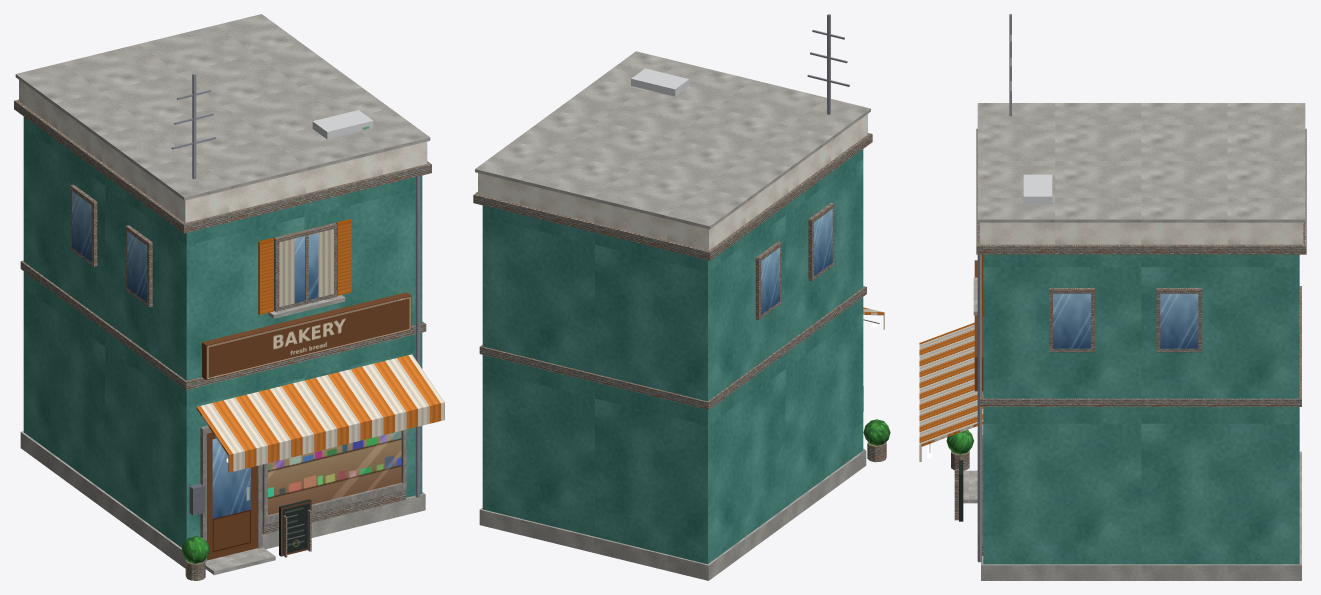
File: b5_green_bakery.glb
The picture shows the model from 3 angles, left to right: view 1: azimuth 30°, elevation 25°; view 2: azimuth 150°, elevation 25°; view 3: azimuth 270°, elevation 25°; orthographic projection. The views are drawn at different scales.
Visible parts, largest first — view 1: wall, concrete, awning, parapet, solid_#f4ede0, sign, glass_shop, door, glass_curtain, solid_#f2efe6, solid_#2e3338, metal (+5 smaller); view 2: wall, concrete, parapet, solid_#f4ede0, glass, solid_#f2efe6, ac, metal, leaf; view 3: wall, concrete, solid_#f4ede0, parapet, awning, glass, solid_#f2efe6, metal, ac, sign, leaf.
Part boxes in pixels (box(x1,y1,x2,y2)): wall: box(23, 116, 422, 547); concrete: box(15, 14, 430, 575); awning: box(196, 354, 444, 472); parapet: box(19, 80, 427, 222); solid_#f4ede0: box(14, 99, 431, 534); sign: box(202, 292, 411, 380); glass_shop: box(268, 430, 401, 514); door: box(207, 432, 257, 560); glass_curtain: box(279, 229, 333, 306); solid_#f2efe6: box(70, 184, 337, 311); solid_#2e3338: box(200, 425, 406, 561); metal: box(171, 73, 420, 497); wall: box(482, 149, 863, 564); concrete: box(475, 51, 870, 580); parapet: box(478, 114, 867, 250); solid_#f4ede0: box(473, 133, 872, 409); glass: box(761, 209, 832, 314); solid_#f2efe6: box(755, 202, 834, 319); ac: box(631, 68, 689, 96); metal: box(807, 14, 849, 114); leaf: box(863, 419, 890, 445); wall: box(983, 254, 1299, 564); concrete: box(963, 103, 1305, 580); solid_#f4ede0: box(976, 128, 1306, 555); parapet: box(980, 222, 1302, 244); awning: box(919, 322, 983, 461); glass: box(1053, 293, 1198, 348); solid_#f2efe6: box(1049, 288, 1202, 352); metal: box(977, 14, 1011, 562); ac: box(1023, 174, 1052, 203); sign: box(974, 260, 983, 391); leaf: box(946, 430, 973, 454).
Bounding box in the file's own units: 5.01 × 8.9 × 6.73.
Materials: 23 (23 with a texture image).
